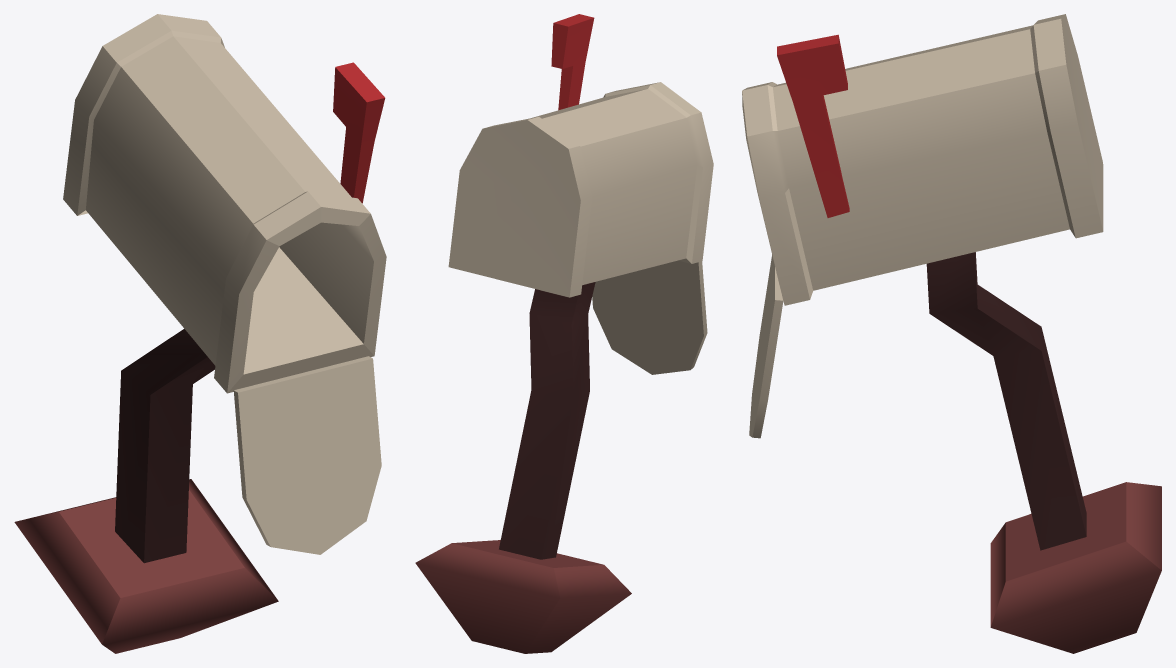
File: mailbox.fbx
3 views of the same model, side by side, from view 1: azimuth 30°, elevation 25°; view 2: azimuth 150°, elevation 25°; view 3: azimuth 270°, elevation 25° (orthographic). The views are drawn at different scales.
Parts seen in each view (by area): view 1: polySurface153; view 2: polySurface153; view 3: polySurface153.
Part boxes in pixels (x1,y1,x2,y2): polySurface153: (14,14,386,653); polySurface153: (415,14,713,653); polySurface153: (742,14,1161,653).
Bounding box in the file's own units: 62.01 × 218 × 130.
